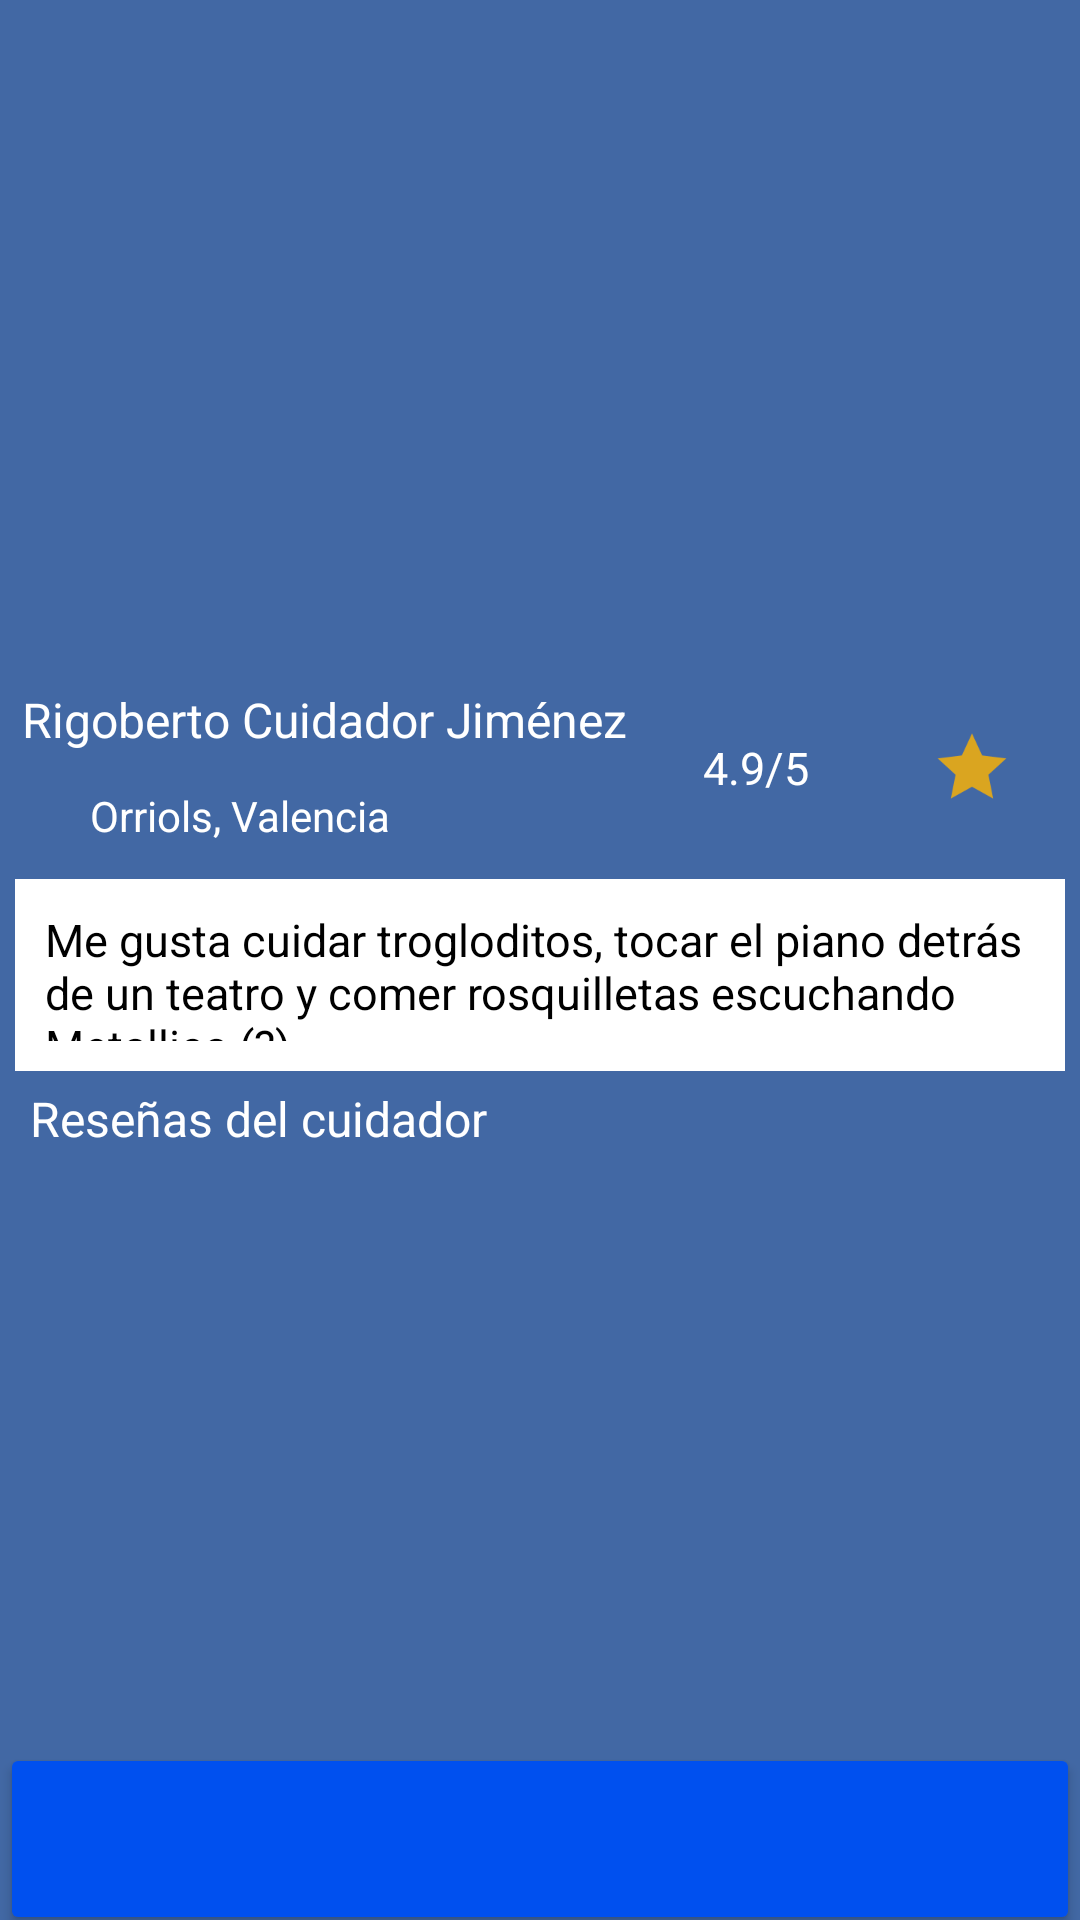

Point at icon controls on the screen. Image size 1080px x 1920px, points as [x,y].
rating star: [972,766]
